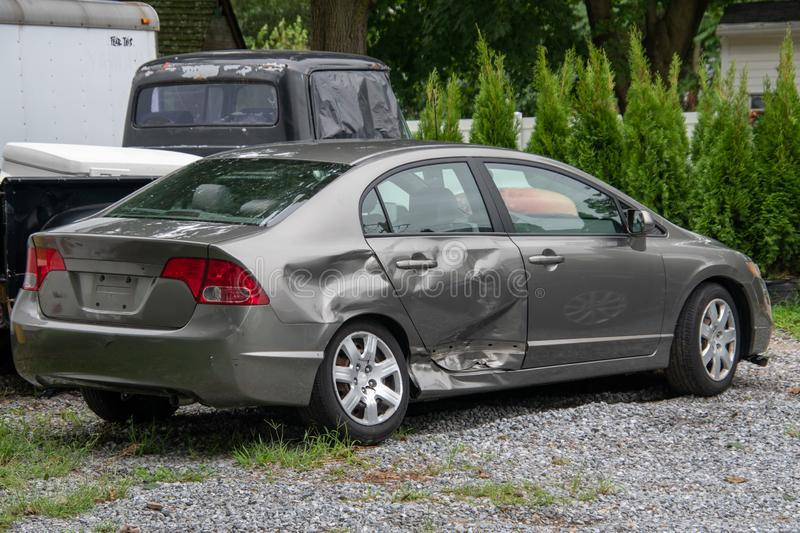doorouter-dent: (383, 236, 527, 377)
quaterpanel-dent: (253, 236, 381, 360)
